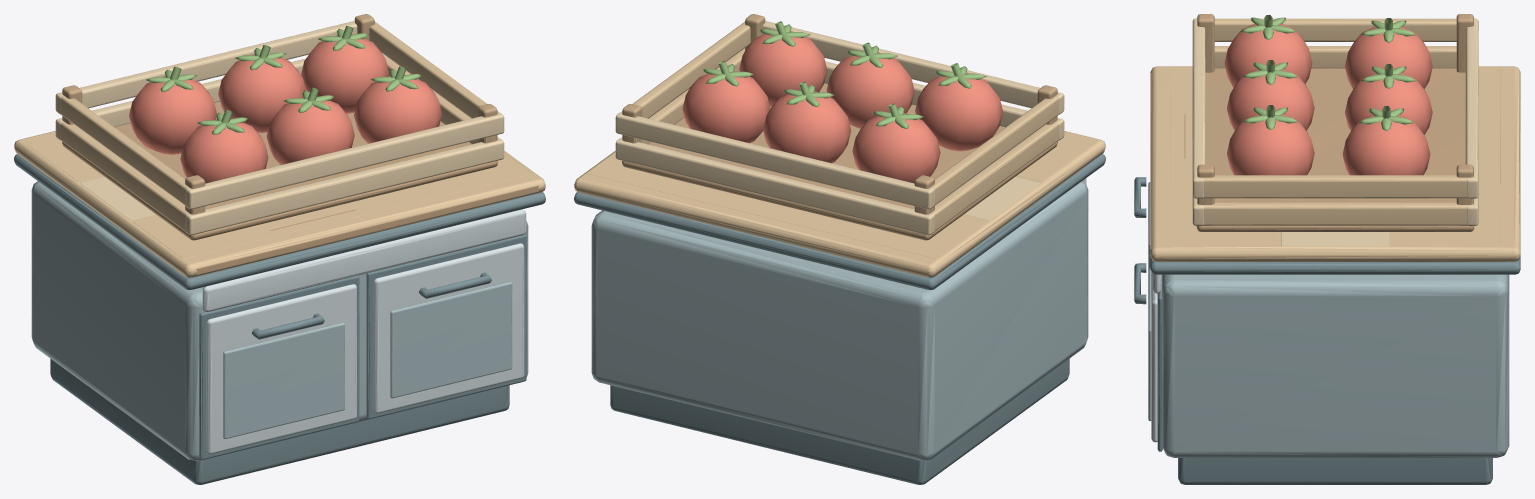
The model's file is PantryTomato.fbx.
3 views of the same model, side by side, from view 1: azimuth 30°, elevation 25°; view 2: azimuth 150°, elevation 25°; view 3: azimuth 270°, elevation 25° (orthographic). The views are drawn at different scales.
Visible parts, largest first — view 1: PantryTomato; view 2: PantryTomato; view 3: PantryTomato.
Boxes of the visible parts, box(x1,y1,x2,y2) form: PantryTomato: box(14, 14, 545, 484); PantryTomato: box(574, 14, 1105, 484); PantryTomato: box(1134, 14, 1520, 484).
Bounding box in the file's own units: 1.9 × 1.66 × 1.67.
